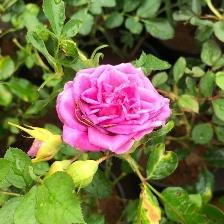rose: (55, 61, 176, 159)
